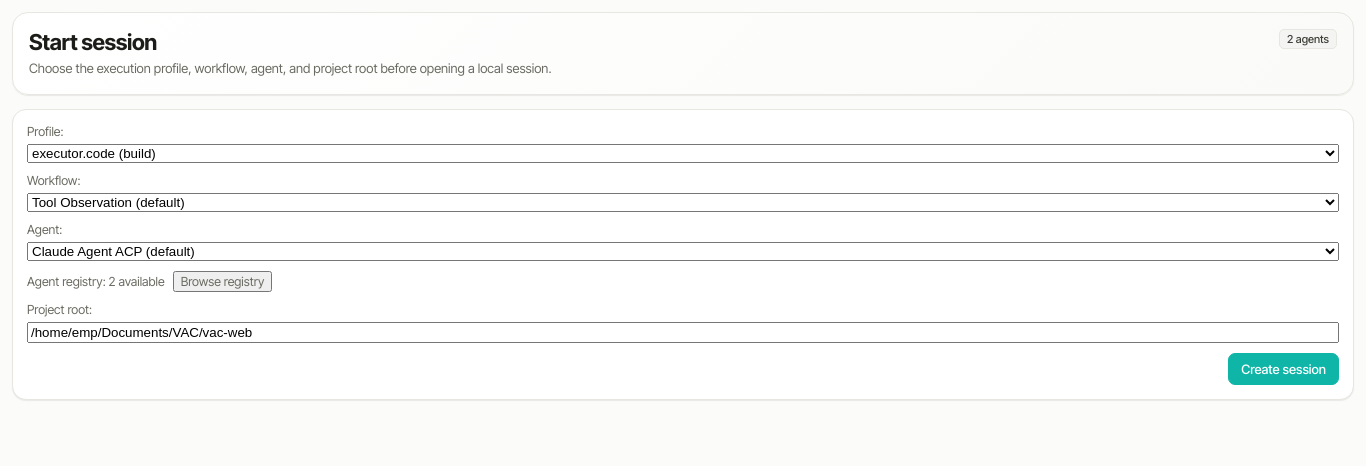
it: SessionPicker provider picker › renders the warning without an install_hint sentence when the bridge omitted it
Select "Kimi CLI • not installed" in the dropdown labelled "Agent": (683, 251) [27,242,1339,261]
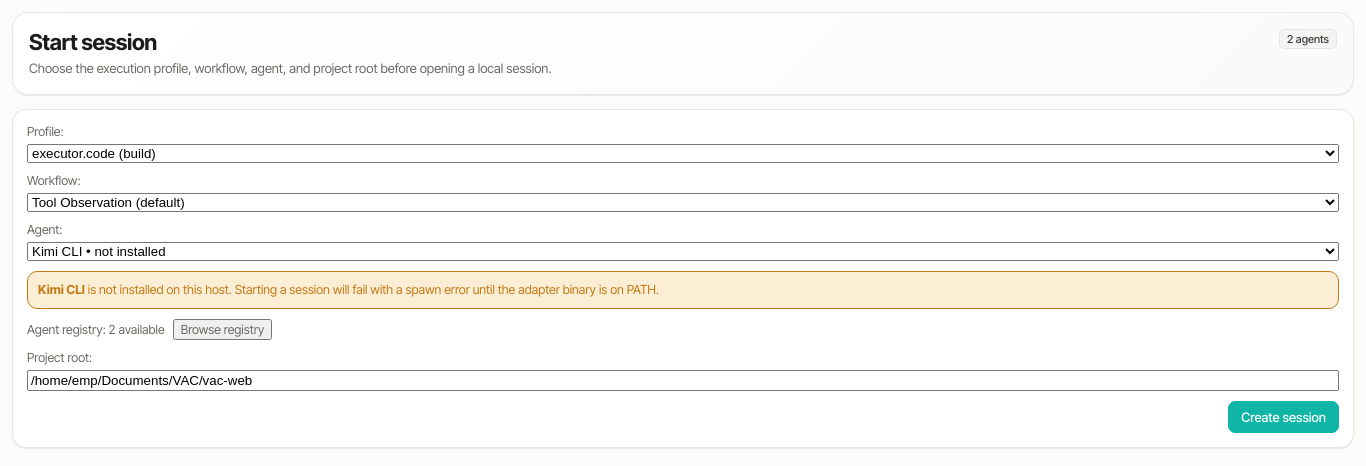
Check: the message with test id "agent-install-hint" shows "Kimi CLI", box [38,282,85,297]
Check: the message with test id "agent-install-hint" shows "spawn error", box [235,282,659,297]
